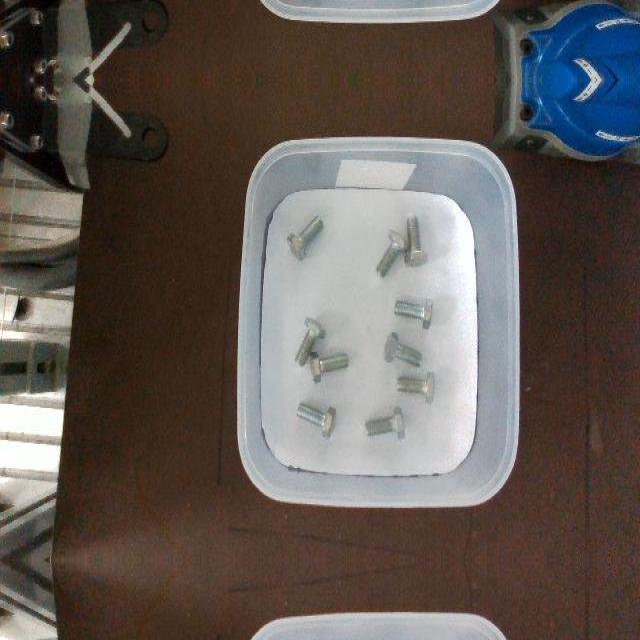screw: (375, 228, 409, 278), (287, 216, 324, 260), (295, 316, 326, 366), (297, 401, 336, 439), (383, 332, 423, 366), (364, 404, 404, 438), (309, 350, 348, 384), (403, 216, 427, 266), (394, 299, 433, 329), (396, 371, 434, 401)
